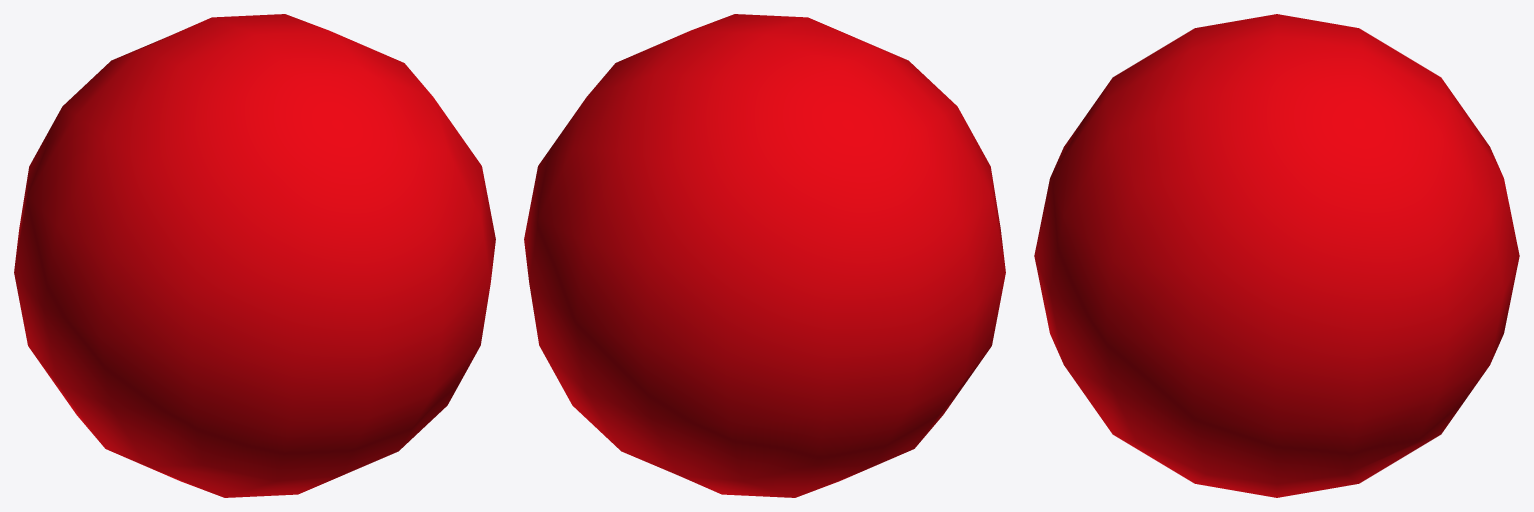
The model's file is 02strawberry.glb.
3 renders of one model, left to right at view 1: azimuth 30°, elevation 25°; view 2: azimuth 150°, elevation 25°; view 3: azimuth 270°, elevation 25°, orthographic.
Visible parts, largest first — view 1: 02-strawberry; view 2: 02-strawberry; view 3: 02-strawberry.
Boxes of the visible parts, x1=… form: 02-strawberry: x1=14, y1=14, x2=495, y2=497; 02-strawberry: x1=524, y1=14, x2=1005, y2=497; 02-strawberry: x1=1034, y1=14, x2=1519, y2=497.
Bounding box in the file's own units: 2.95 × 2.95 × 2.95.
